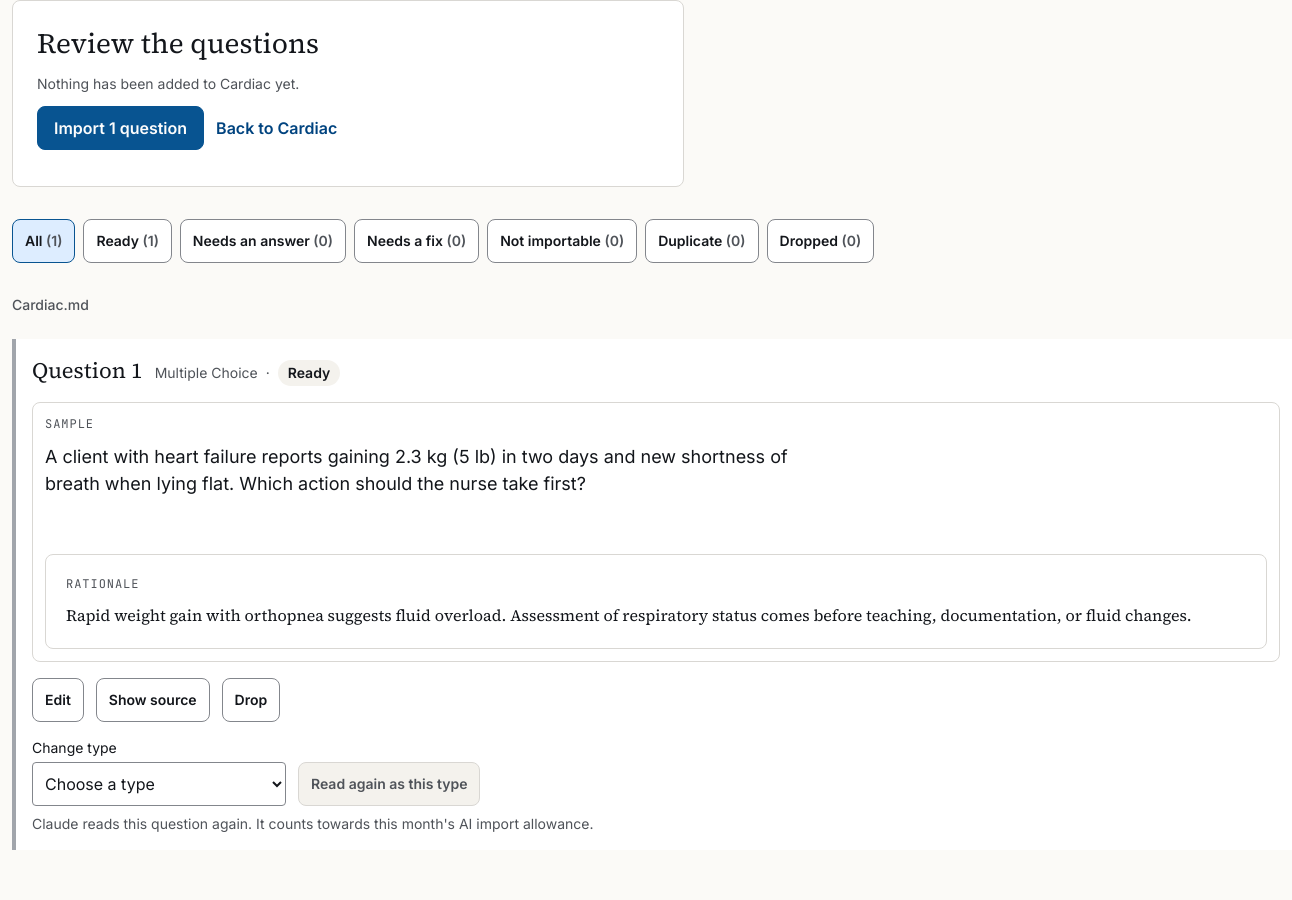
AiImportReview (#346) › imports in one click once nothing blocks it, then says what went into the quiz
Click the button with test id "import-button".
click(121, 128)  # box [37,106,204,150]
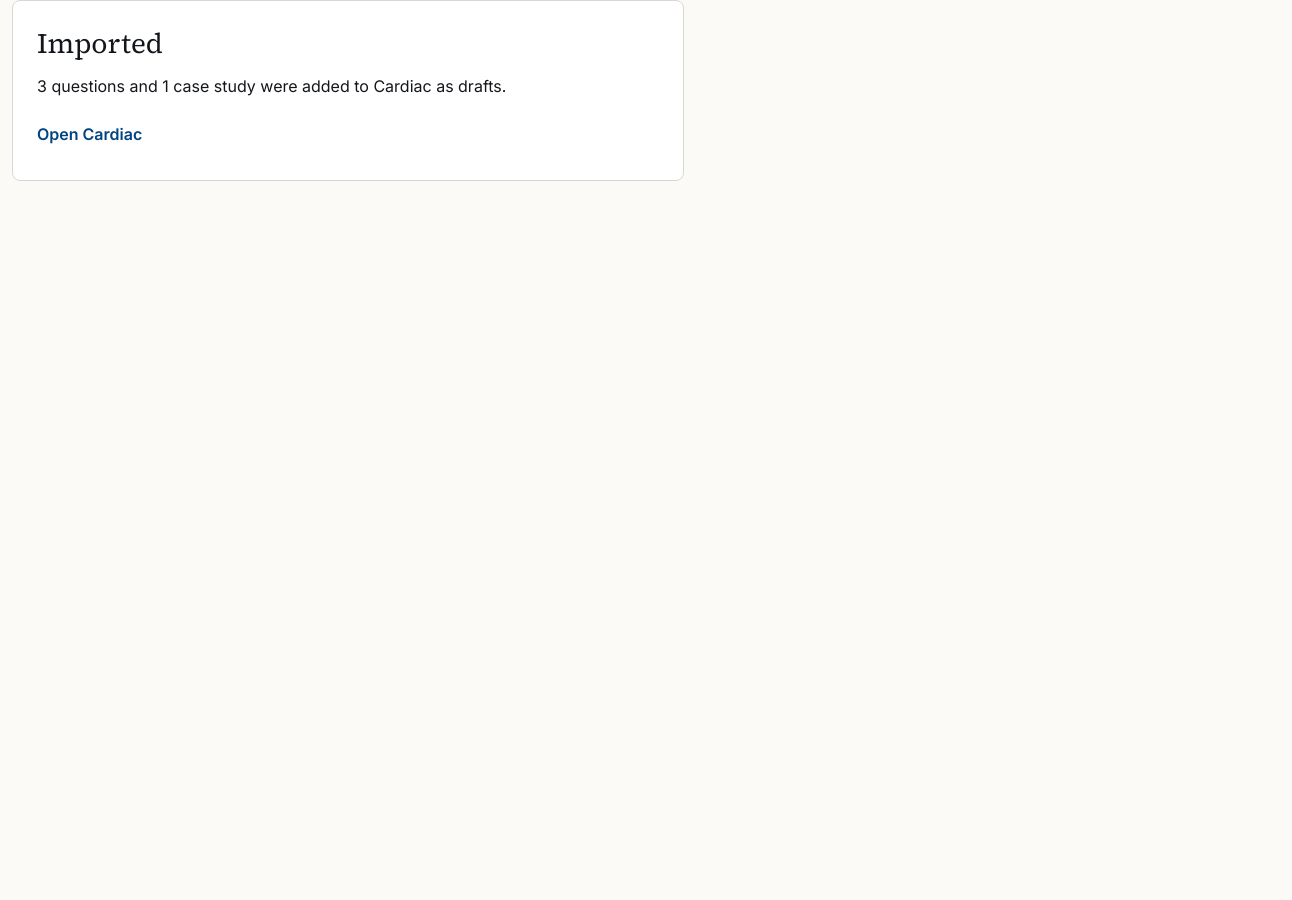
Expected: the message reads "3 questions and 1 case study were added to Cardiac as drafts.", [37,76,506,96]
